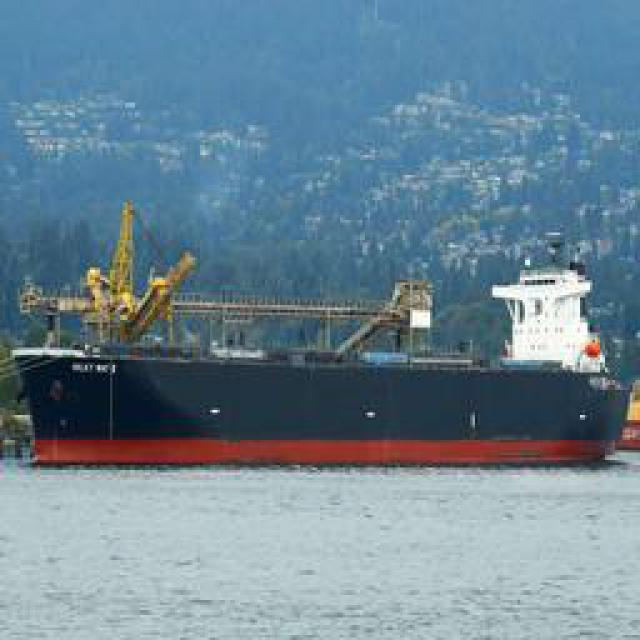Ship: (24, 238, 627, 473)
